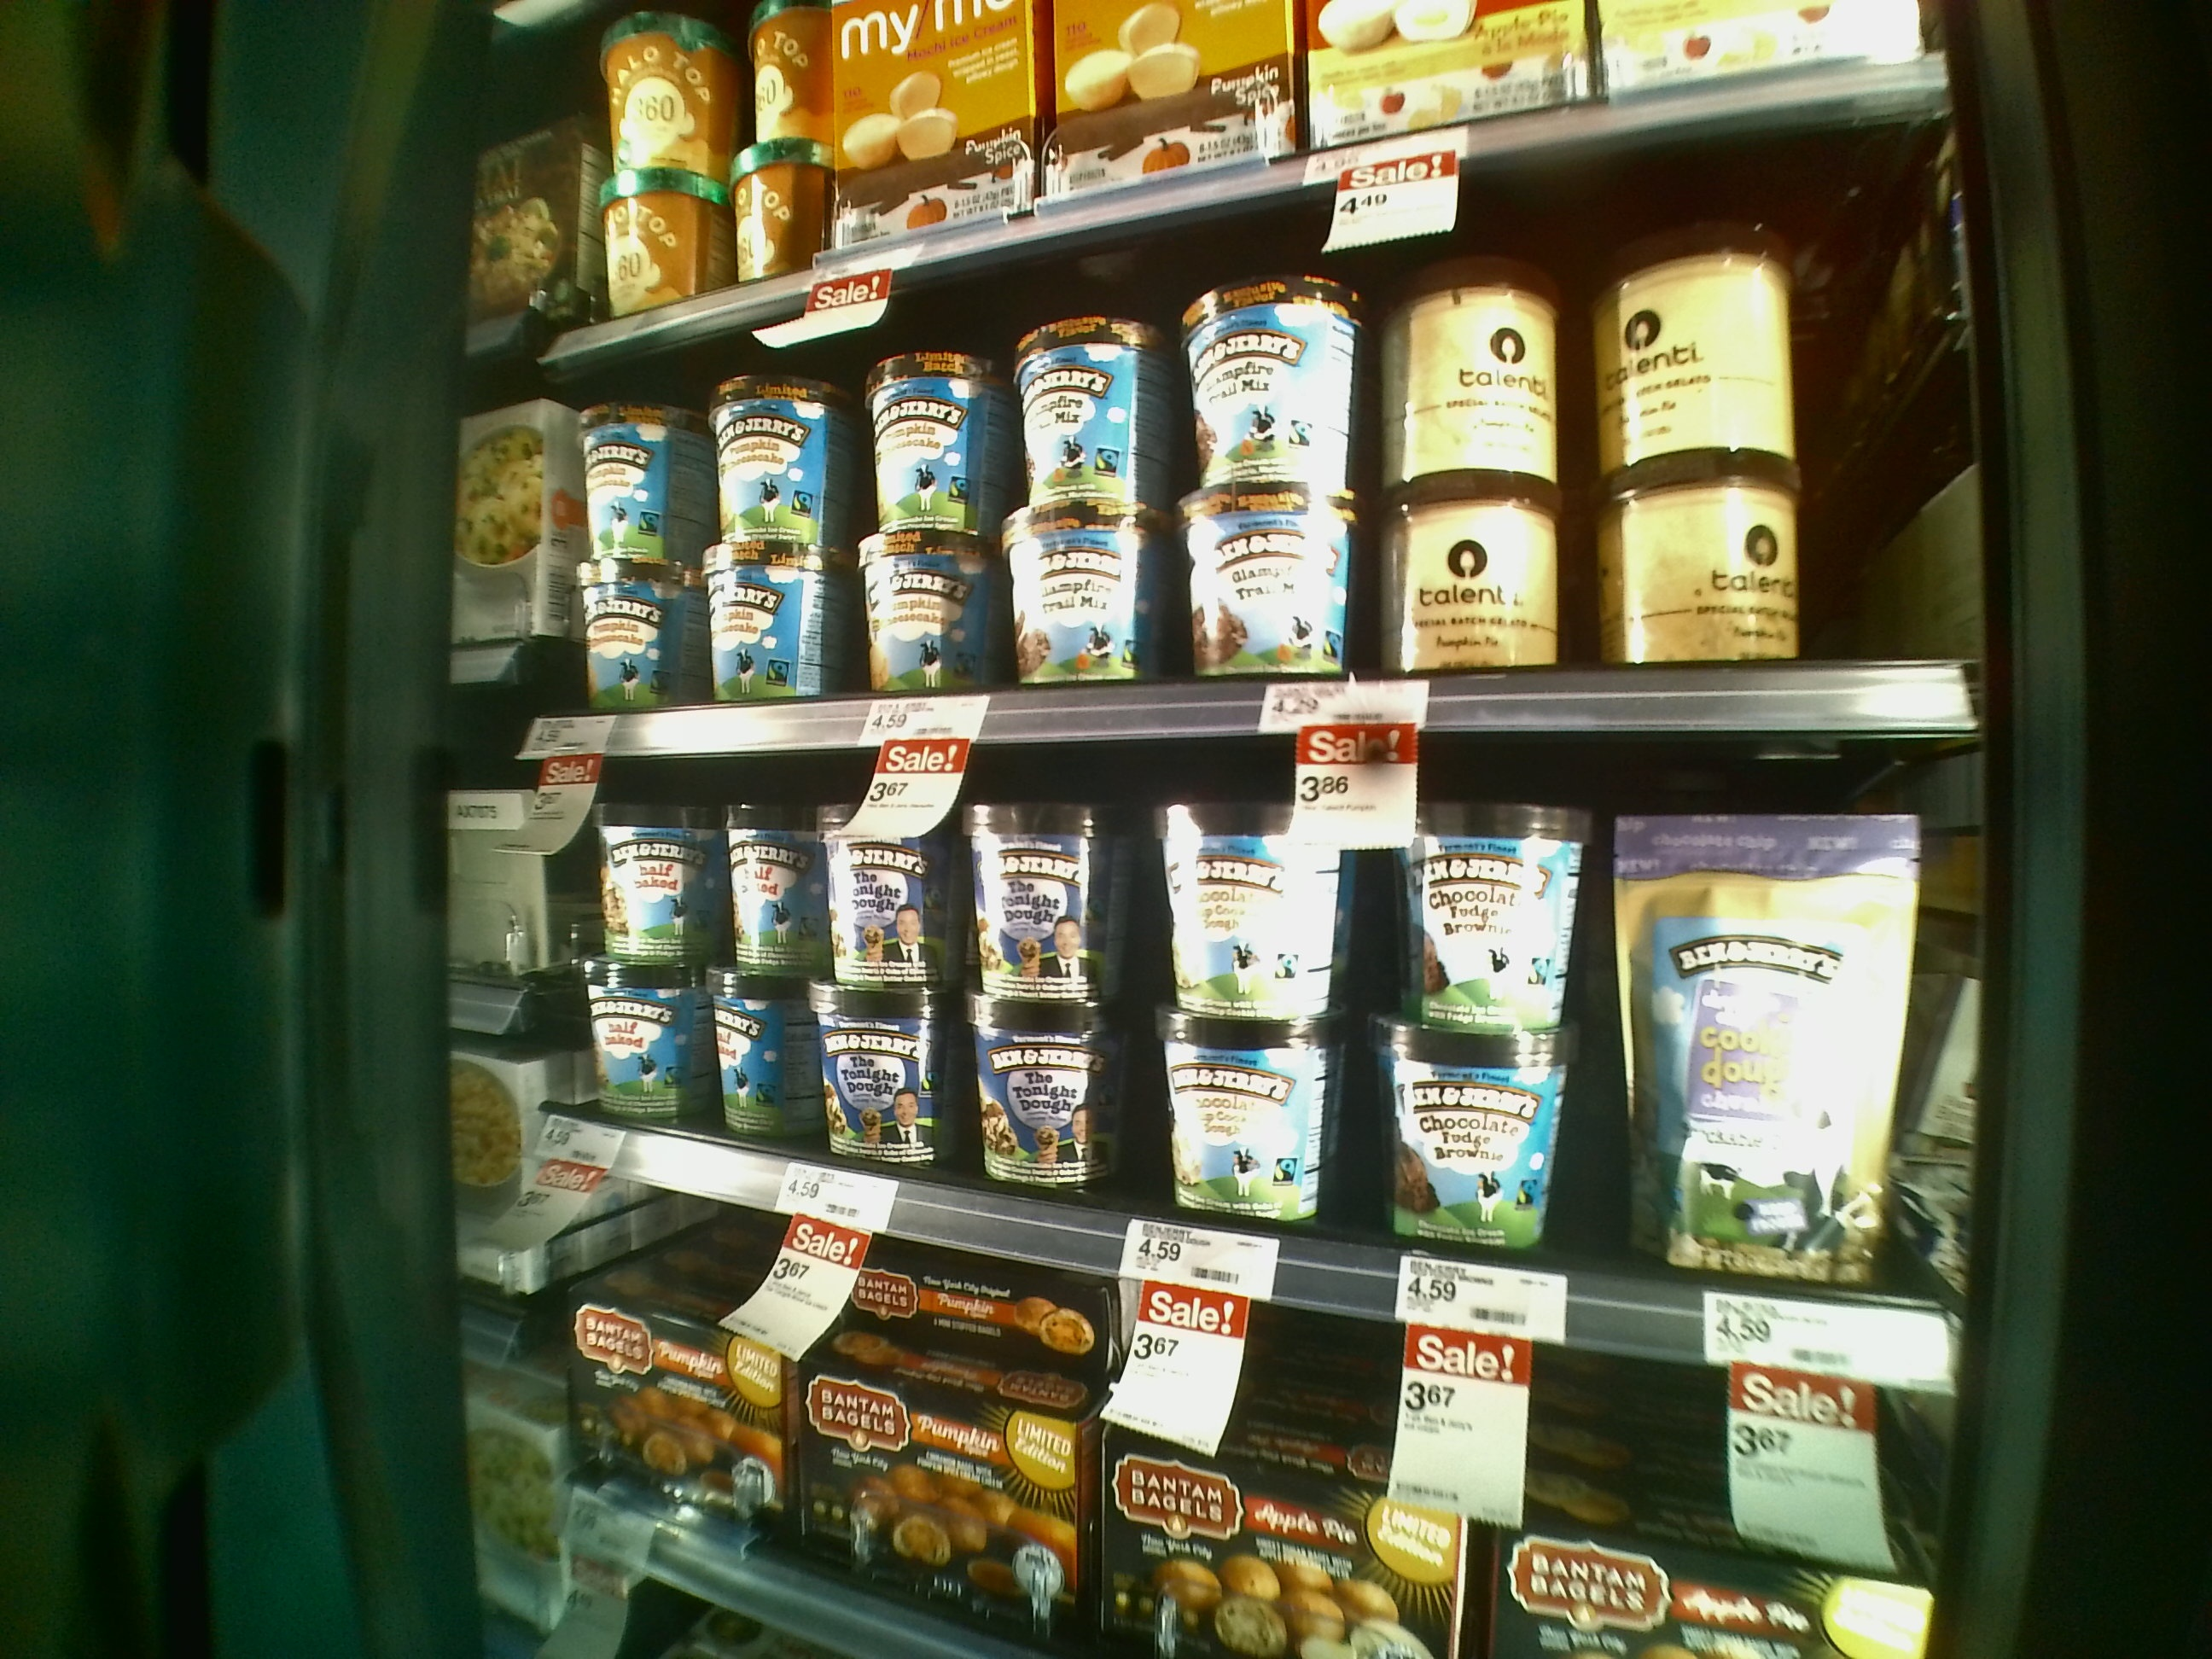shelf: (529, 688, 1940, 1358), (540, 274, 1963, 723)
